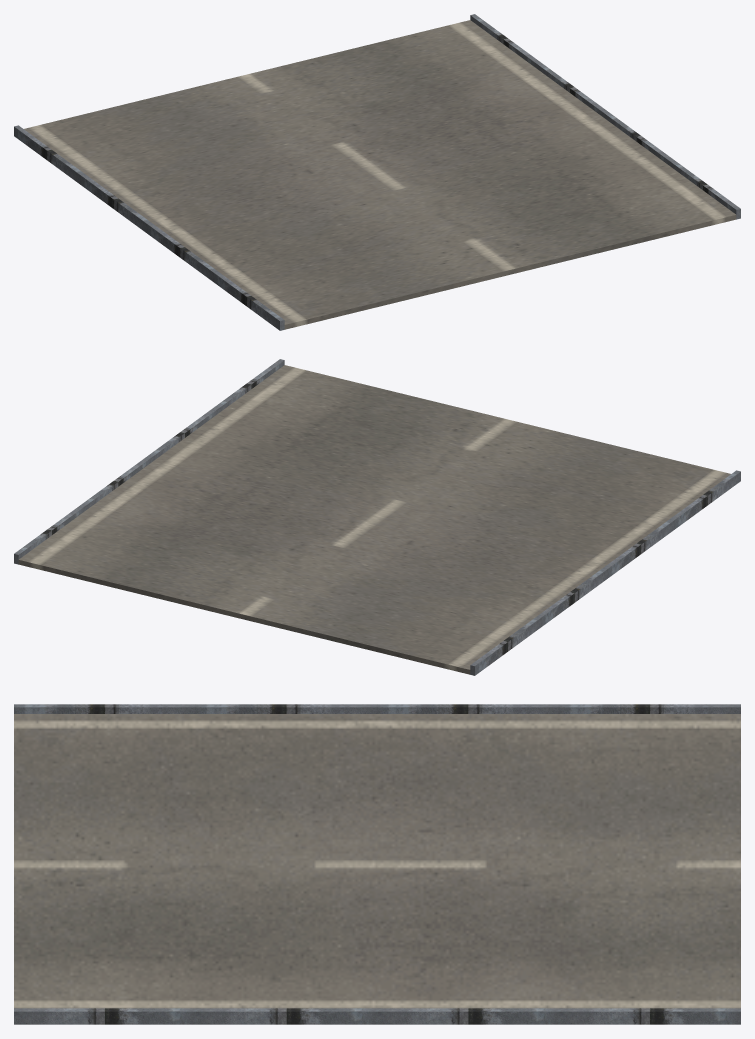
Rendered from Urban_Road4StraightSmallSides_Model.fbx.
3 renders of one model, top to bottom at view 1: azimuth 30°, elevation 25°; view 2: azimuth 150°, elevation 25°; view 3: azimuth 270°, elevation 25°, orthographic. The views are drawn at different scales.
Visible parts, largest first — view 1: Urban_Road4StraightSmallSides_Mesh; view 2: Urban_Road4StraightSmallSides_Mesh; view 3: Urban_Road4StraightSmallSides_Mesh.
Part boxes in pixels (bbox=[...]): Urban_Road4StraightSmallSides_Mesh: bbox=[14, 14, 740, 330]; Urban_Road4StraightSmallSides_Mesh: bbox=[14, 359, 740, 675]; Urban_Road4StraightSmallSides_Mesh: bbox=[14, 704, 740, 1024].
Bounding box in the file's own units: 16 × 0.32 × 16.
